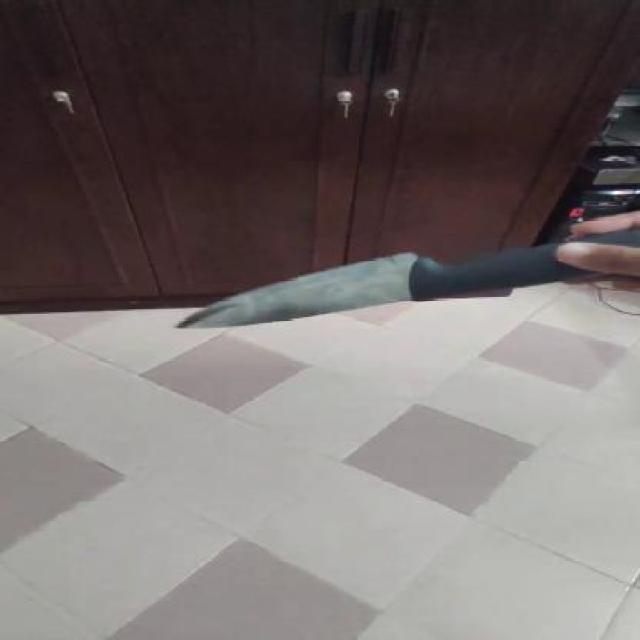knife: (146, 248, 479, 343)
